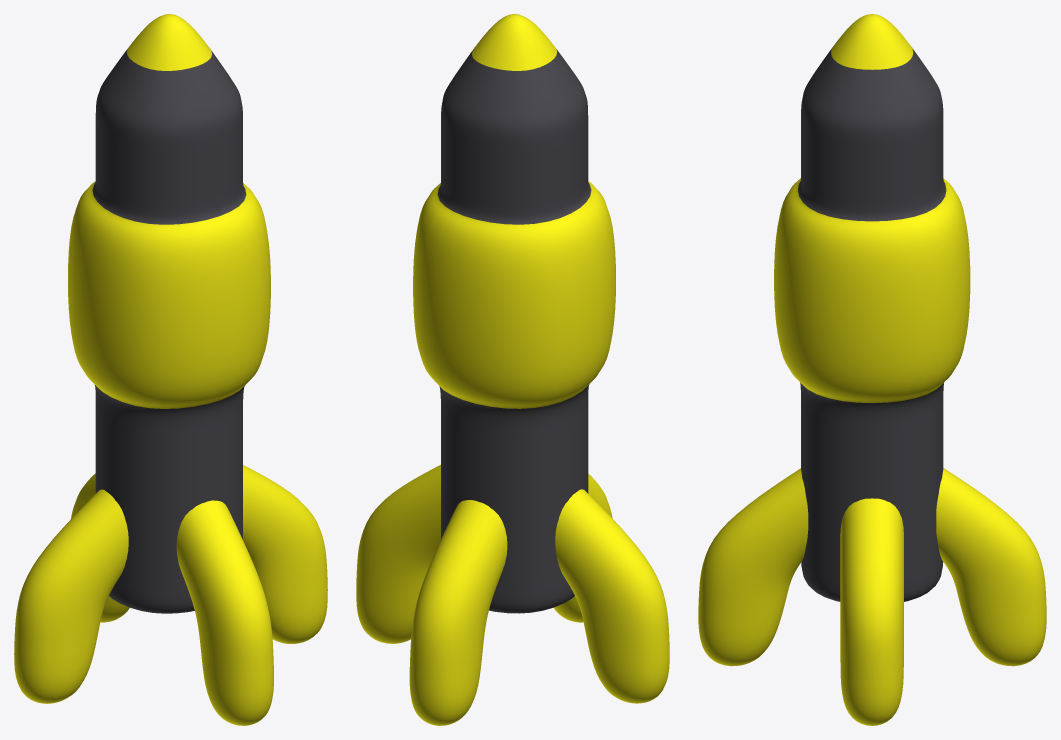
The model's file is Ammo-3.fbx.
The picture shows the model from 3 angles, left to right: view 1: azimuth 30°, elevation 25°; view 2: azimuth 150°, elevation 25°; view 3: azimuth 270°, elevation 25°; orthographic projection.
Parts seen in each view (by area): view 1: Ammo-3; view 2: Ammo-3; view 3: Ammo-3.
Part boxes in pixels (<box>): Ammo-3: <box>14,14,327,725</box>; Ammo-3: <box>356,14,669,725</box>; Ammo-3: <box>698,14,1046,725</box>.
Bounding box in the file's own units: 67.41 × 138 × 67.41.
